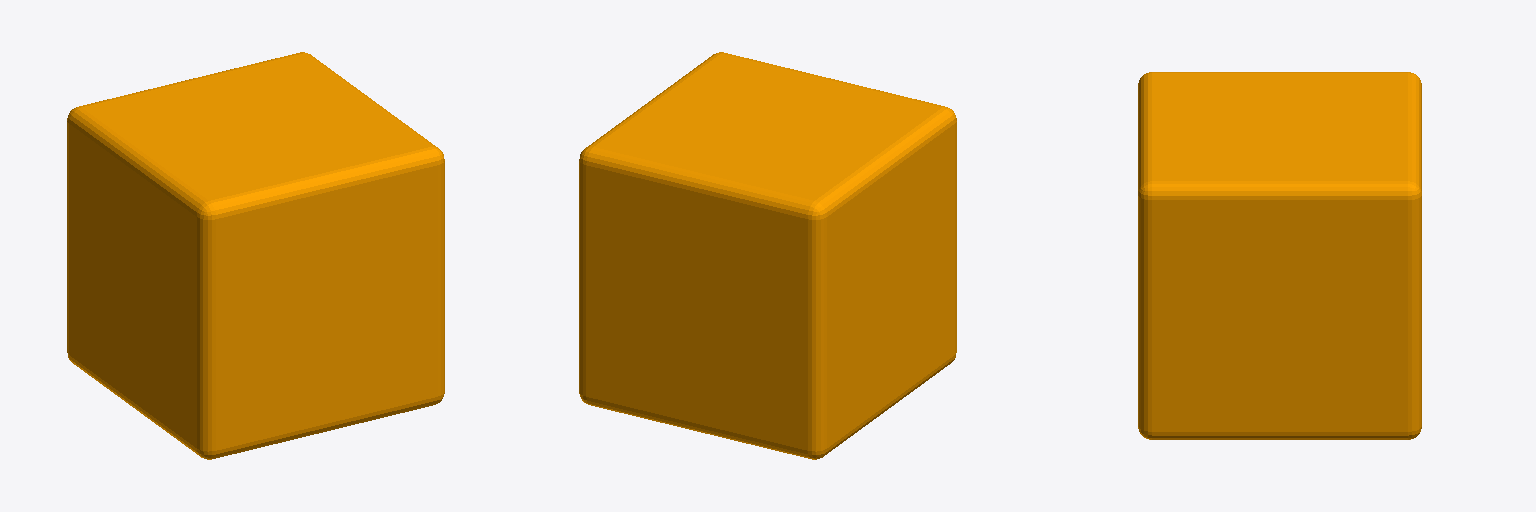
The model's file is Block.obj.
3 renders of one model, left to right at view 1: azimuth 30°, elevation 25°; view 2: azimuth 150°, elevation 25°; view 3: azimuth 270°, elevation 25°, orthographic.
Visible parts, largest first — view 1: Object_2; view 2: Object_2; view 3: Object_2.
Part boxes in pixels (x1,y1,x2,y2): Object_2: (67,52,444,459); Object_2: (579,52,956,459); Object_2: (1138,72,1421,439).
Size of the model in its own units: 0.9957 by 0.9957 by 0.9957.